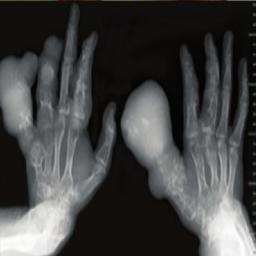cancer: (122, 80, 170, 160), (2, 57, 32, 135)
